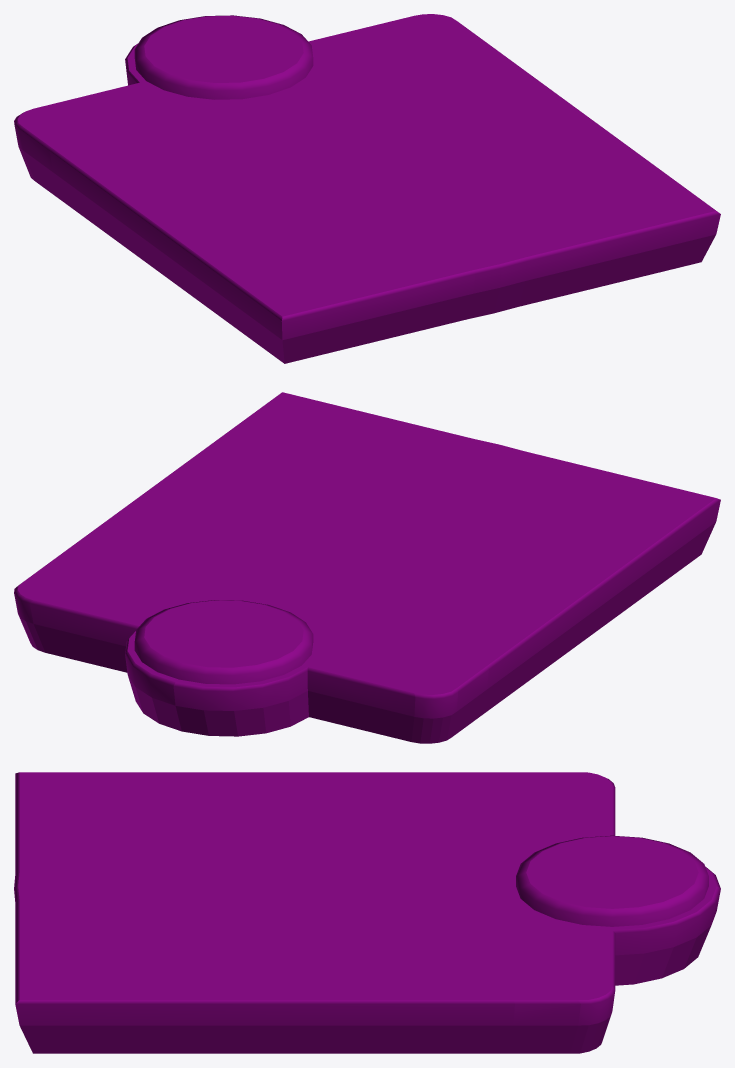
The model's file is Bathroom_Scale.fbx.
3 renders of one model, top to bottom at view 1: azimuth 30°, elevation 25°; view 2: azimuth 150°, elevation 25°; view 3: azimuth 270°, elevation 25°, orthographic. The views are drawn at different scales.
Visible parts, largest first — view 1: Bathroom_Scale; view 2: Bathroom_Scale; view 3: Bathroom_Scale.
Part boxes in pixels (x1,y1,x2,y2): Bathroom_Scale: [14, 14, 720, 363]; Bathroom_Scale: [14, 392, 720, 743]; Bathroom_Scale: [14, 772, 720, 1053].
Bounding box in the file's own units: 311 × 45.11 × 403.
